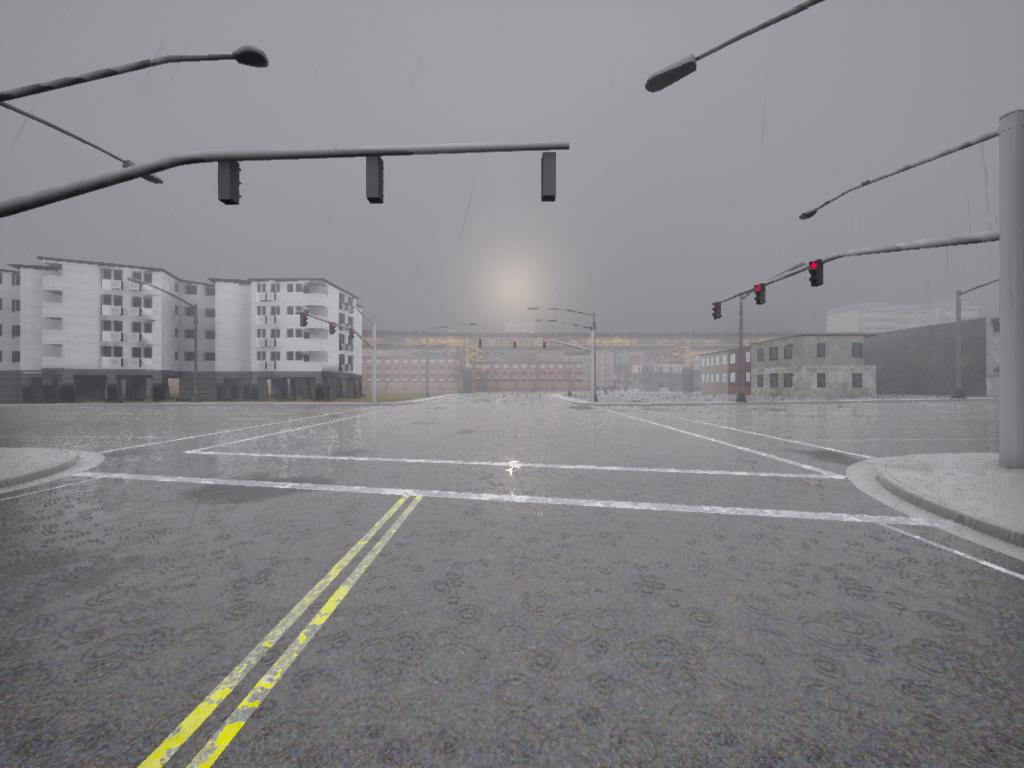traffic_light: (215, 162, 249, 209), (540, 150, 560, 207), (365, 158, 385, 210), (811, 262, 826, 288), (756, 286, 766, 305), (712, 302, 722, 321), (299, 312, 309, 329), (329, 321, 337, 339), (542, 338, 548, 353), (349, 329, 355, 343), (478, 337, 483, 350), (513, 340, 518, 351)
